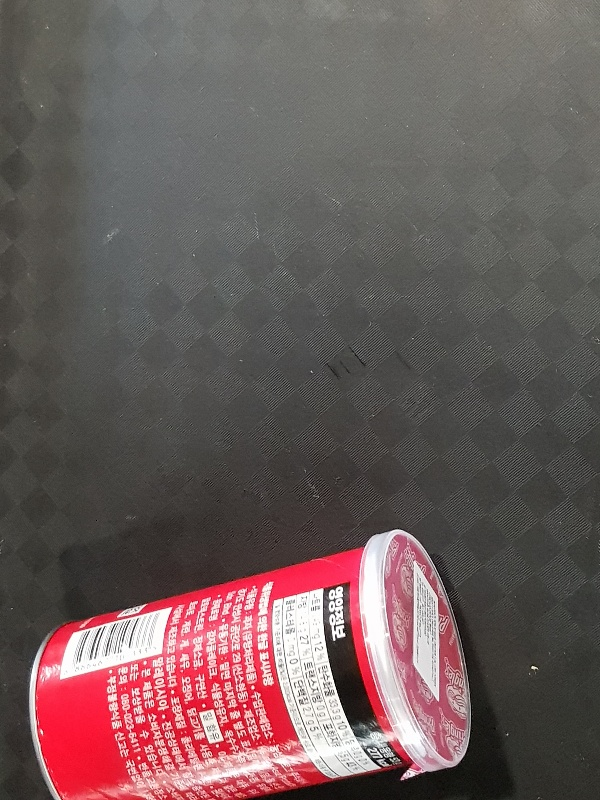Pringles Original: (26, 525, 473, 800)
